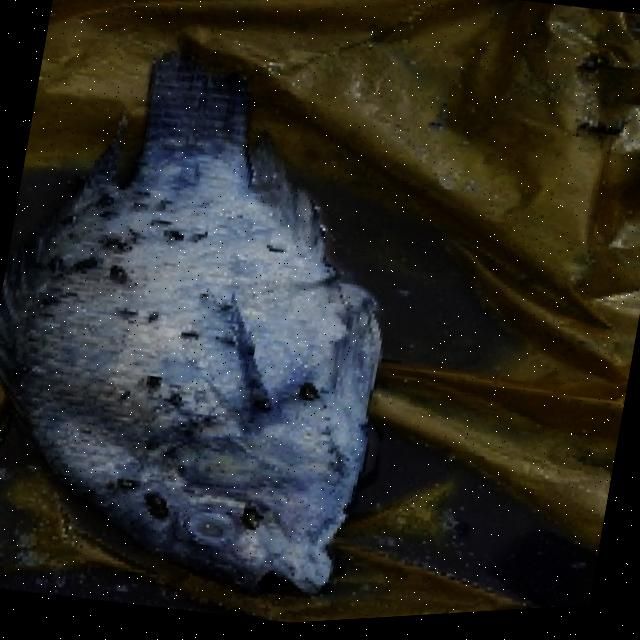Non-Fresh: (0, 94, 425, 634)
